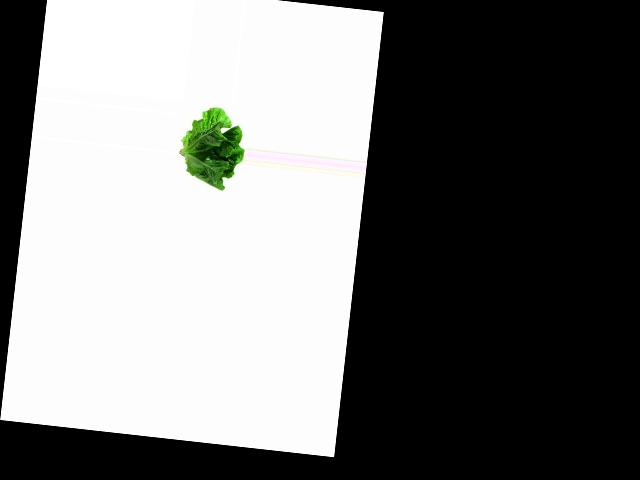lettuce: (178, 105, 248, 193)
